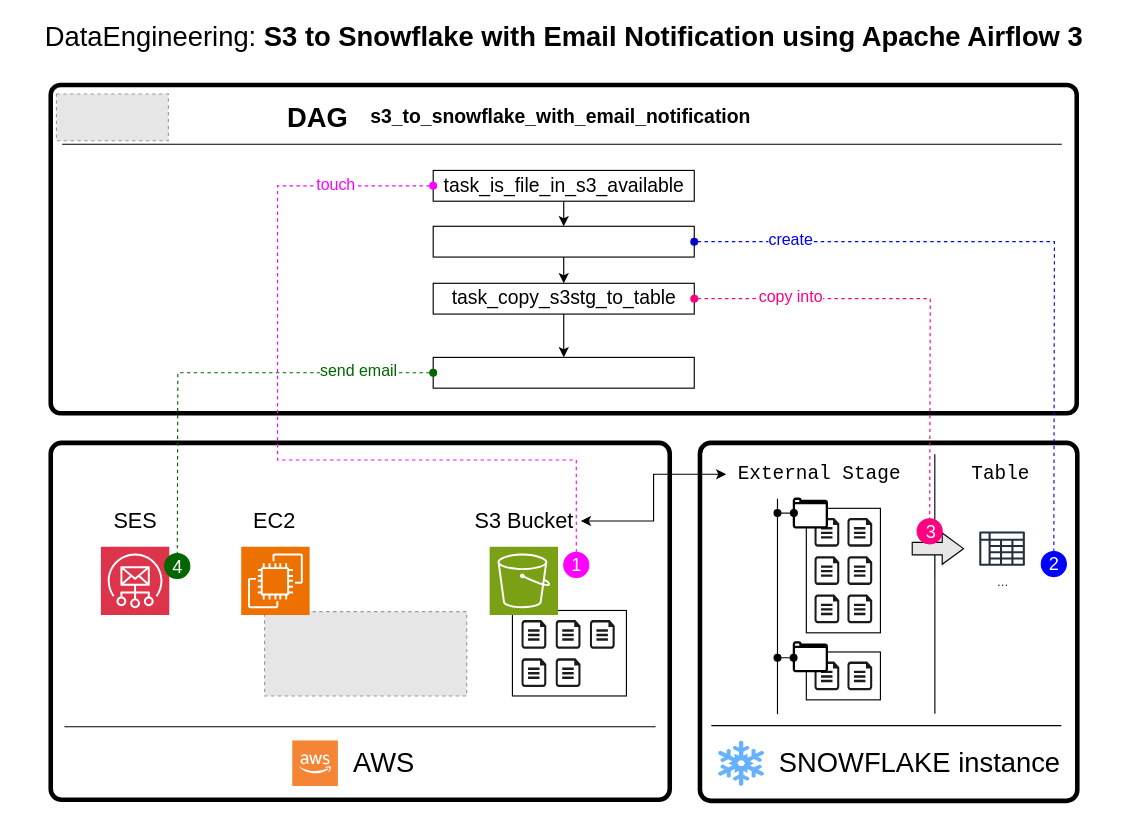
Image size: 1127x822. Some labels were removed from this diagram. Grey dashed boxes stand in for pictures. Each missing label, with the box of its shape:
on success : SesNotifier: (432, 356, 694, 388)
task_create_table: (432, 225, 694, 257)
